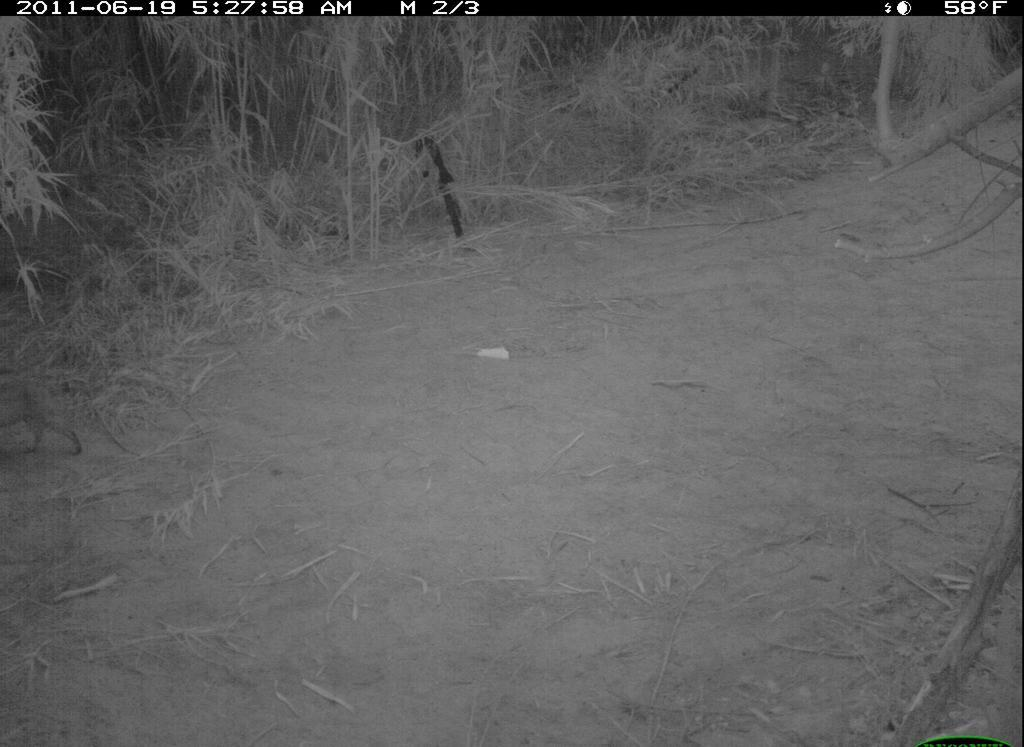bobcat: (1, 369, 117, 484)
